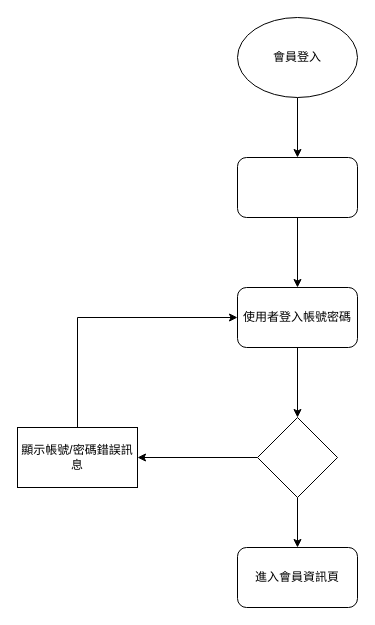
This 375x625 diagram has some shape labels left out. The shapes that lost their labels are listed below. From the top down, each one's box as (x1, y1, x2, y2) in pixels, then its label:
(236, 156, 358, 218): 顯示燈入頁
(256, 416, 338, 498): 帳號/密碼是否輸入正確
